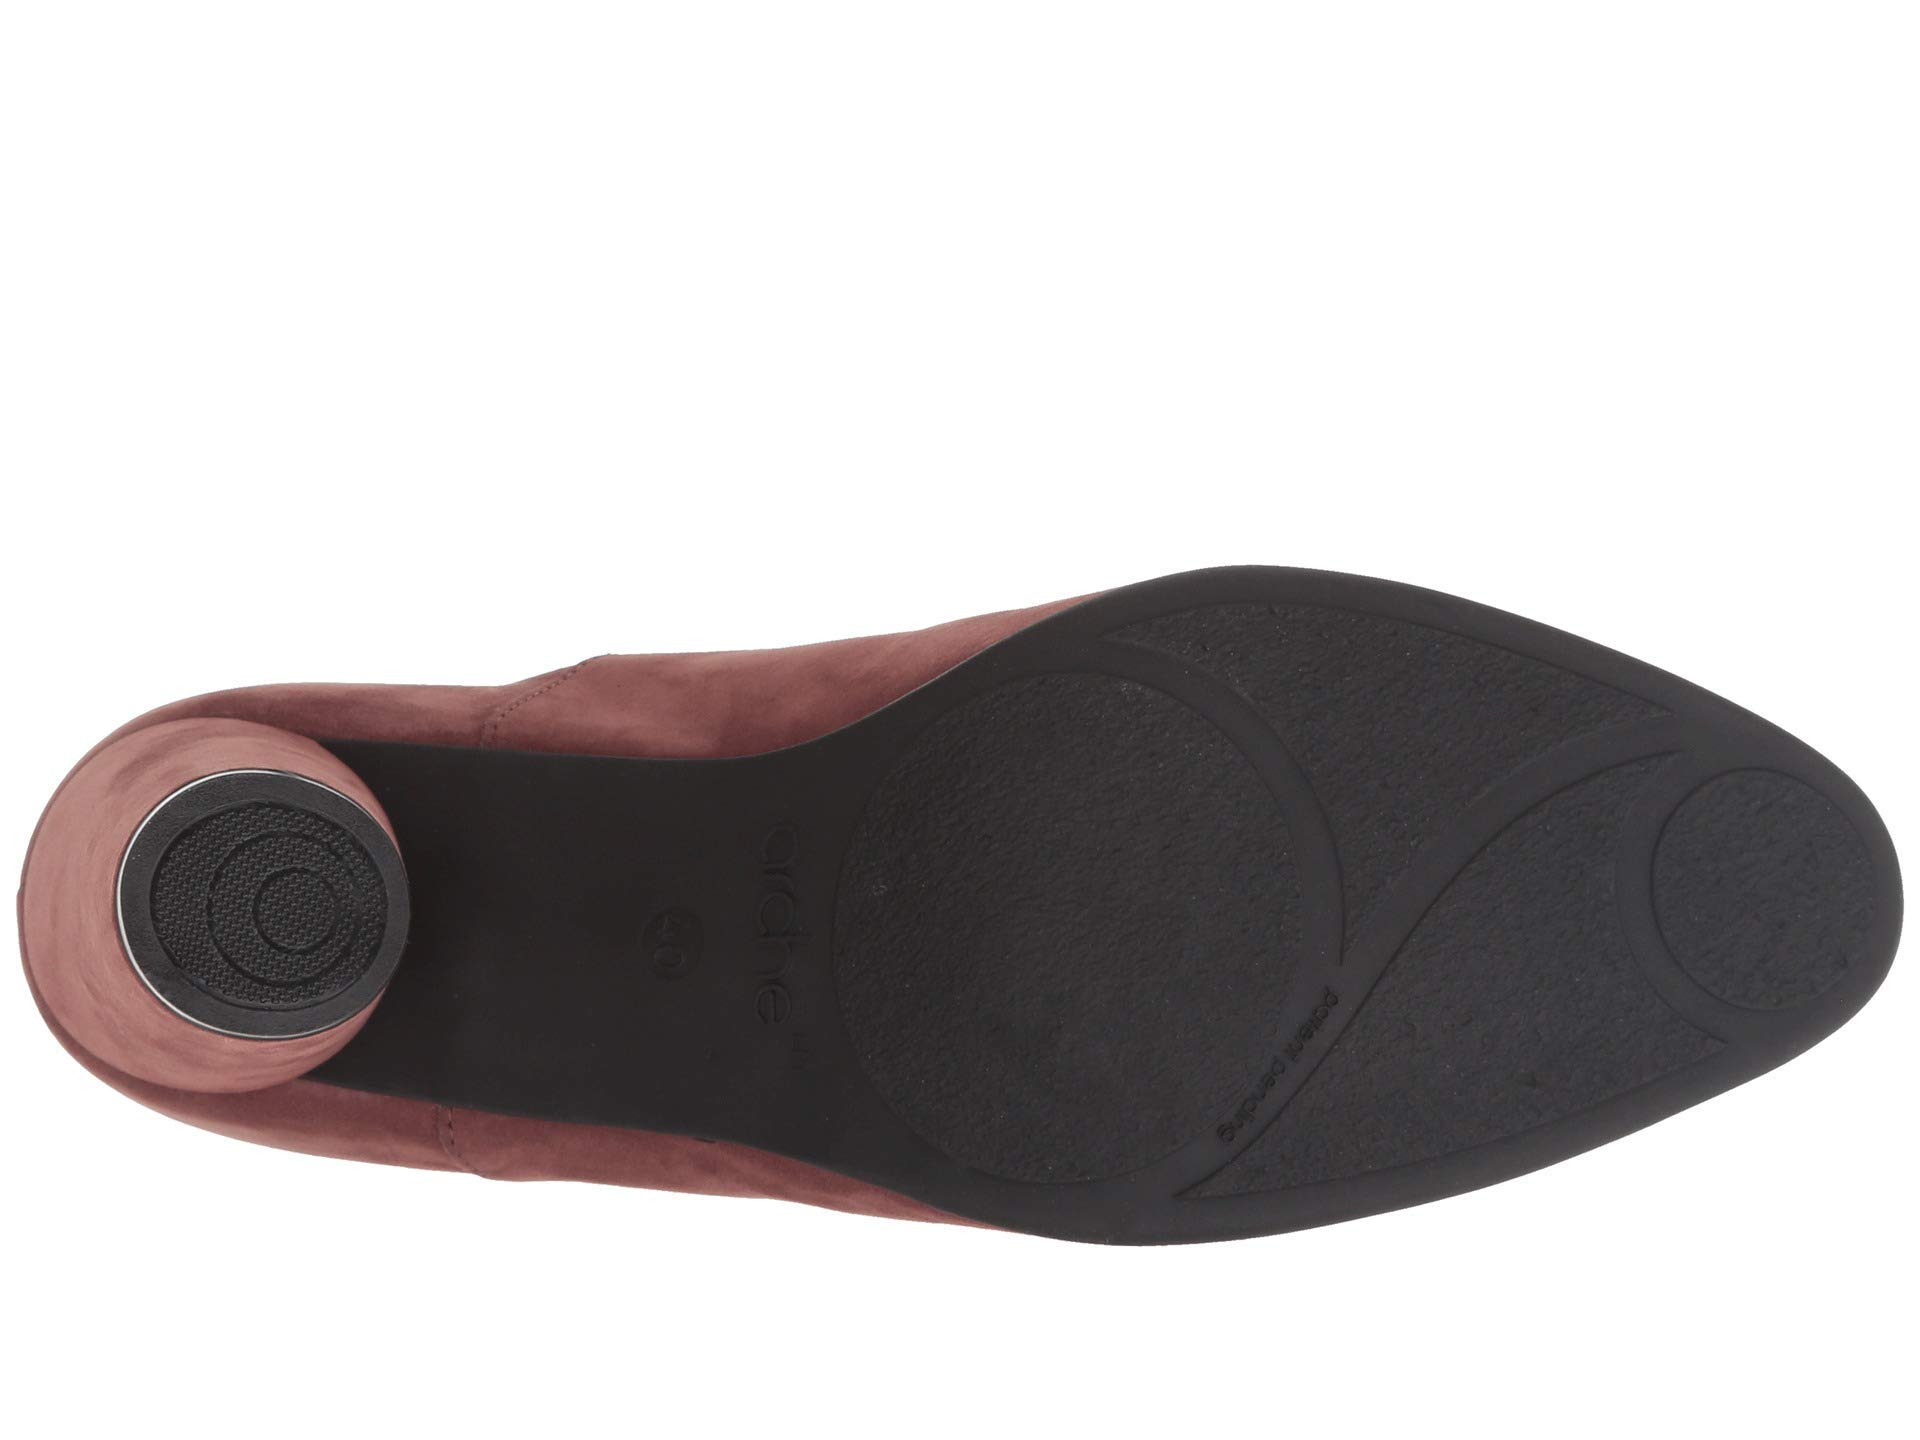circle: (1625, 746, 1903, 1078), (169, 799, 357, 1004)
line: (1172, 930, 1430, 1172)
text: (1172, 930, 1430, 1172)
triangle: (1085, 526, 1686, 957)
